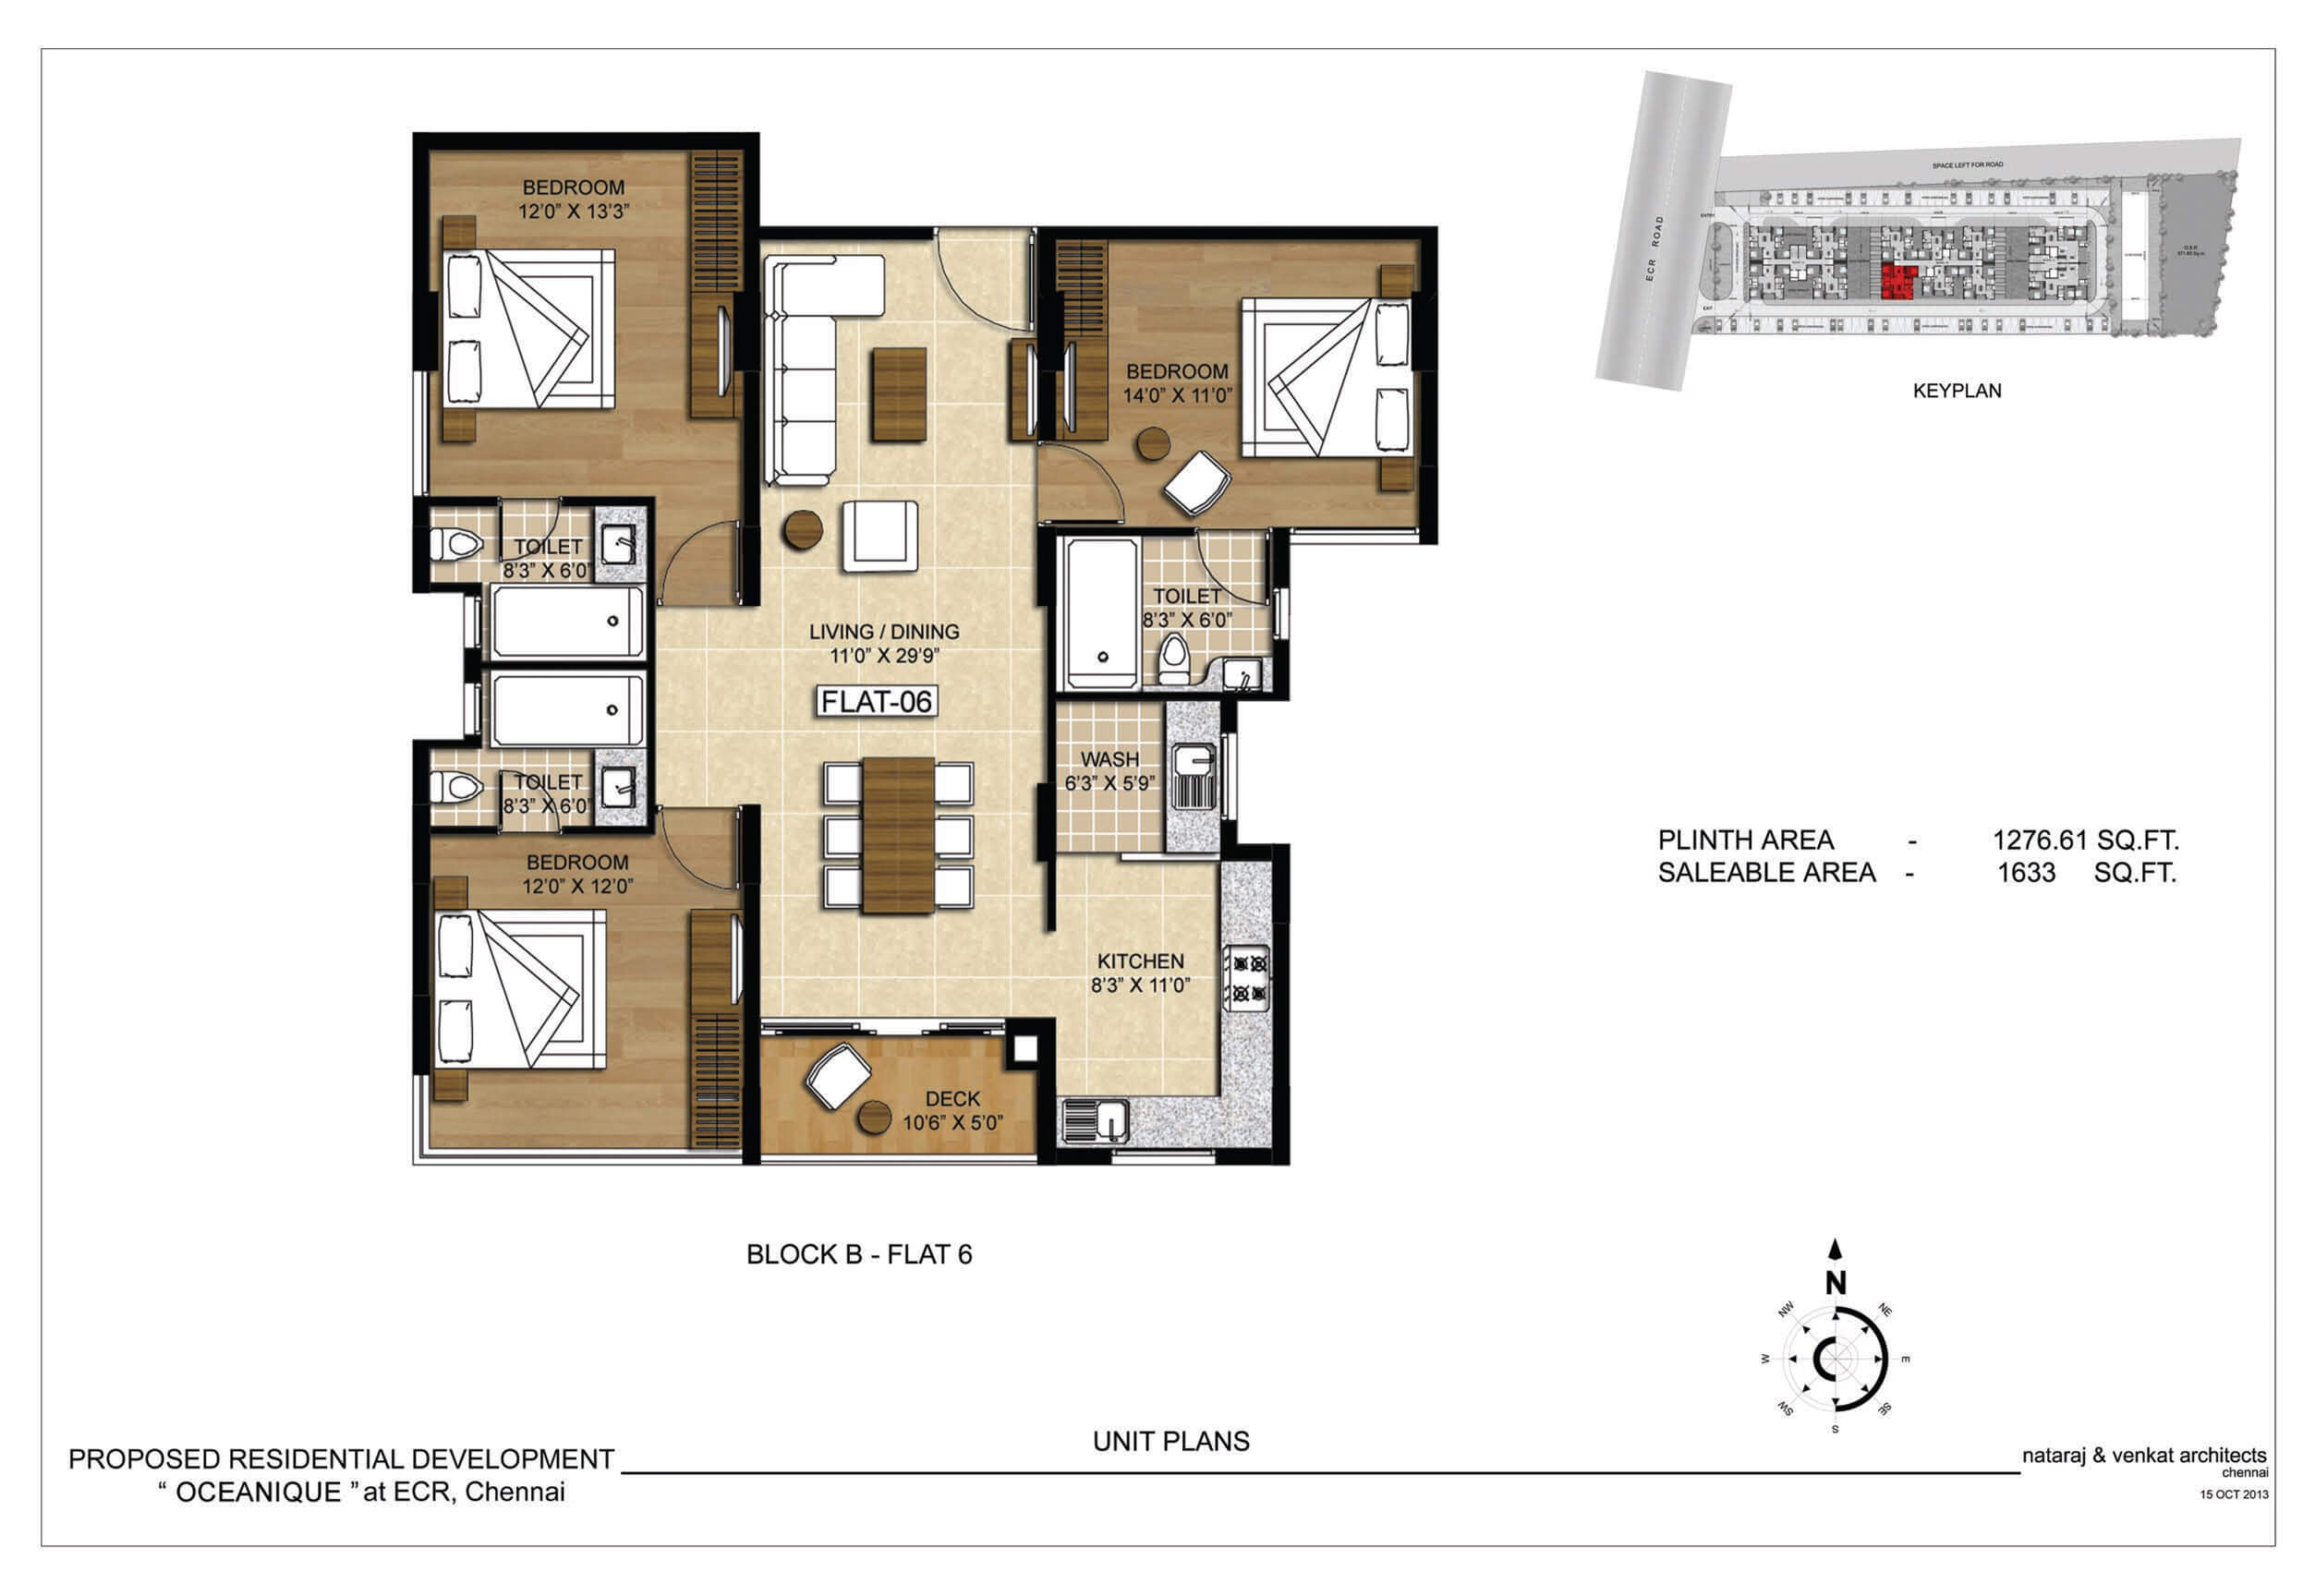window: (755, 1146, 1041, 1172), (403, 366, 438, 498), (1282, 523, 1425, 547), (1106, 1144, 1221, 1170), (1216, 728, 1242, 824), (1268, 581, 1296, 642), (457, 591, 484, 655), (461, 677, 484, 741)
